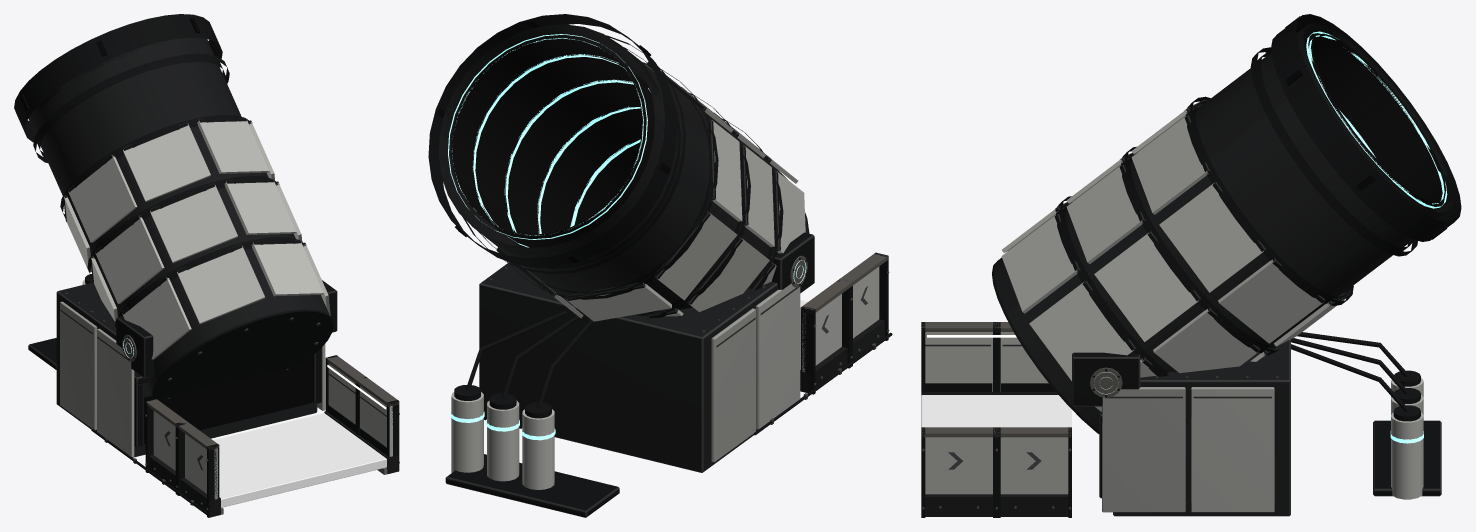
File: cannon.glb
The picture shows the model from 3 angles, left to right: view 1: azimuth 30°, elevation 25°; view 2: azimuth 150°, elevation 25°; view 3: azimuth 270°, elevation 25°; orthographic projection. The views are drawn at different scales.
Visible parts, largest first — view 1: Barrel, Frame, Belt; view 2: Barrel, Frame; view 3: Barrel, Frame, Belt.
Boxes of the visible parts, box(x1,y1,x2,y2) form: Barrel: box(14, 14, 333, 399); Frame: box(28, 274, 399, 517); Belt: box(213, 413, 386, 507); Barrel: box(428, 14, 809, 321); Frame: box(445, 232, 892, 517); Barrel: box(992, 14, 1461, 433); Frame: box(921, 322, 1441, 517); Belt: box(921, 395, 1071, 427).
Bounding box in the file's own units: 1.99 × 3.49 × 3.95.
